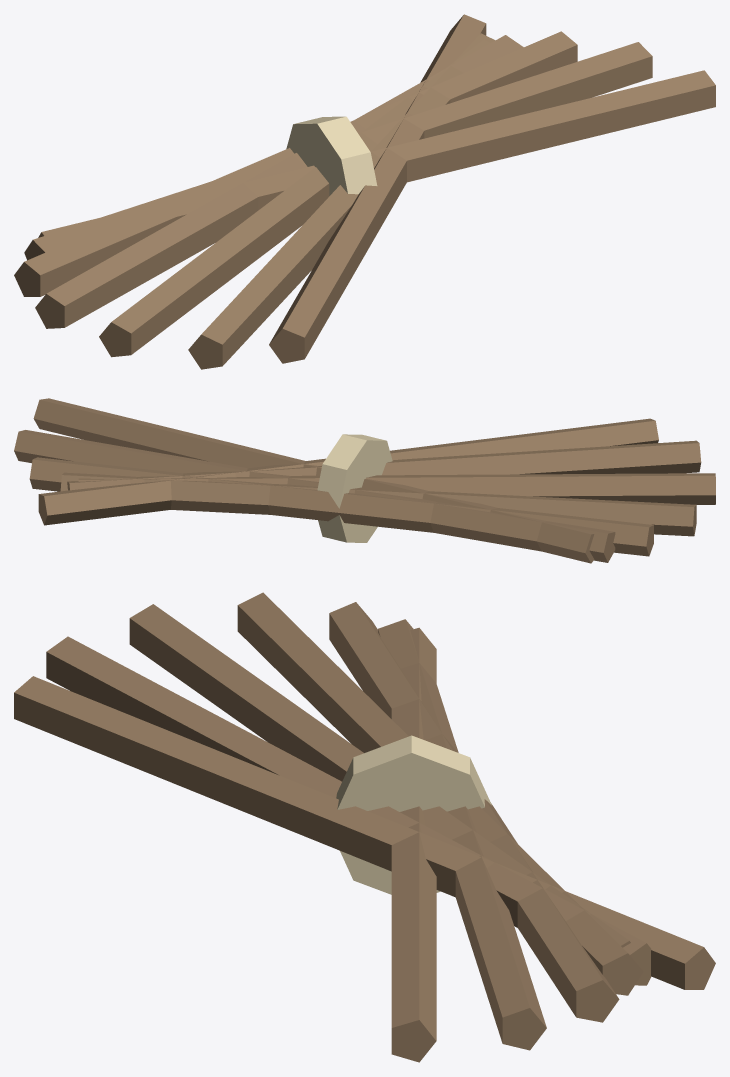
The model's file is kit_fogueira.glb.
3 renders of one model, top to bottom at view 1: azimuth 30°, elevation 25°; view 2: azimuth 150°, elevation 25°; view 3: azimuth 270°, elevation 25°, orthographic. The views are drawn at different scales.
Visible parts, largest first — view 1: kit_fogueira; view 2: kit_fogueira; view 3: kit_fogueira.
Boxes of the visible parts, x1,y1,x2,y2 form: kit_fogueira: (14,14,715,369); kit_fogueira: (14,398,715,563); kit_fogueira: (14,592,715,1062).
Bounding box in the file's own units: 0.4936 × 0.08 × 0.3403.
